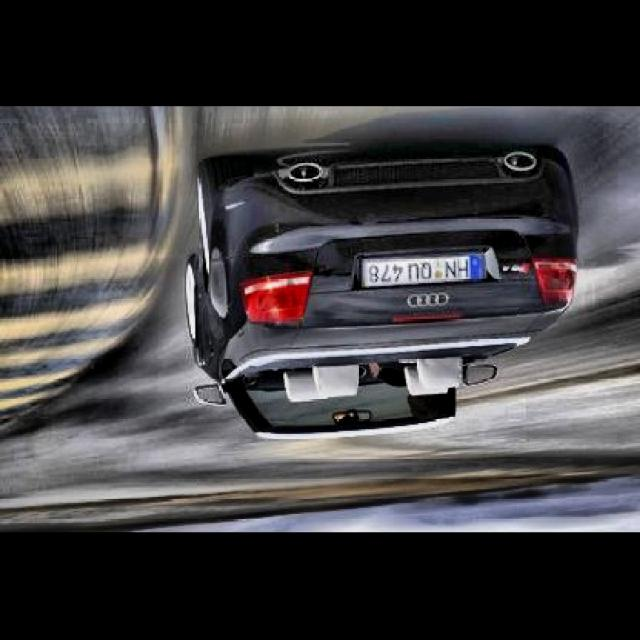black: (185, 145, 577, 436)
